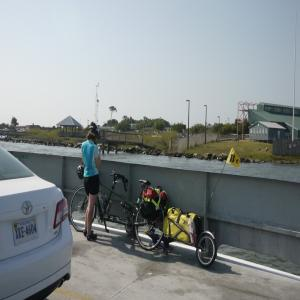Vehicle-registration-plate: (13, 219, 40, 249)
